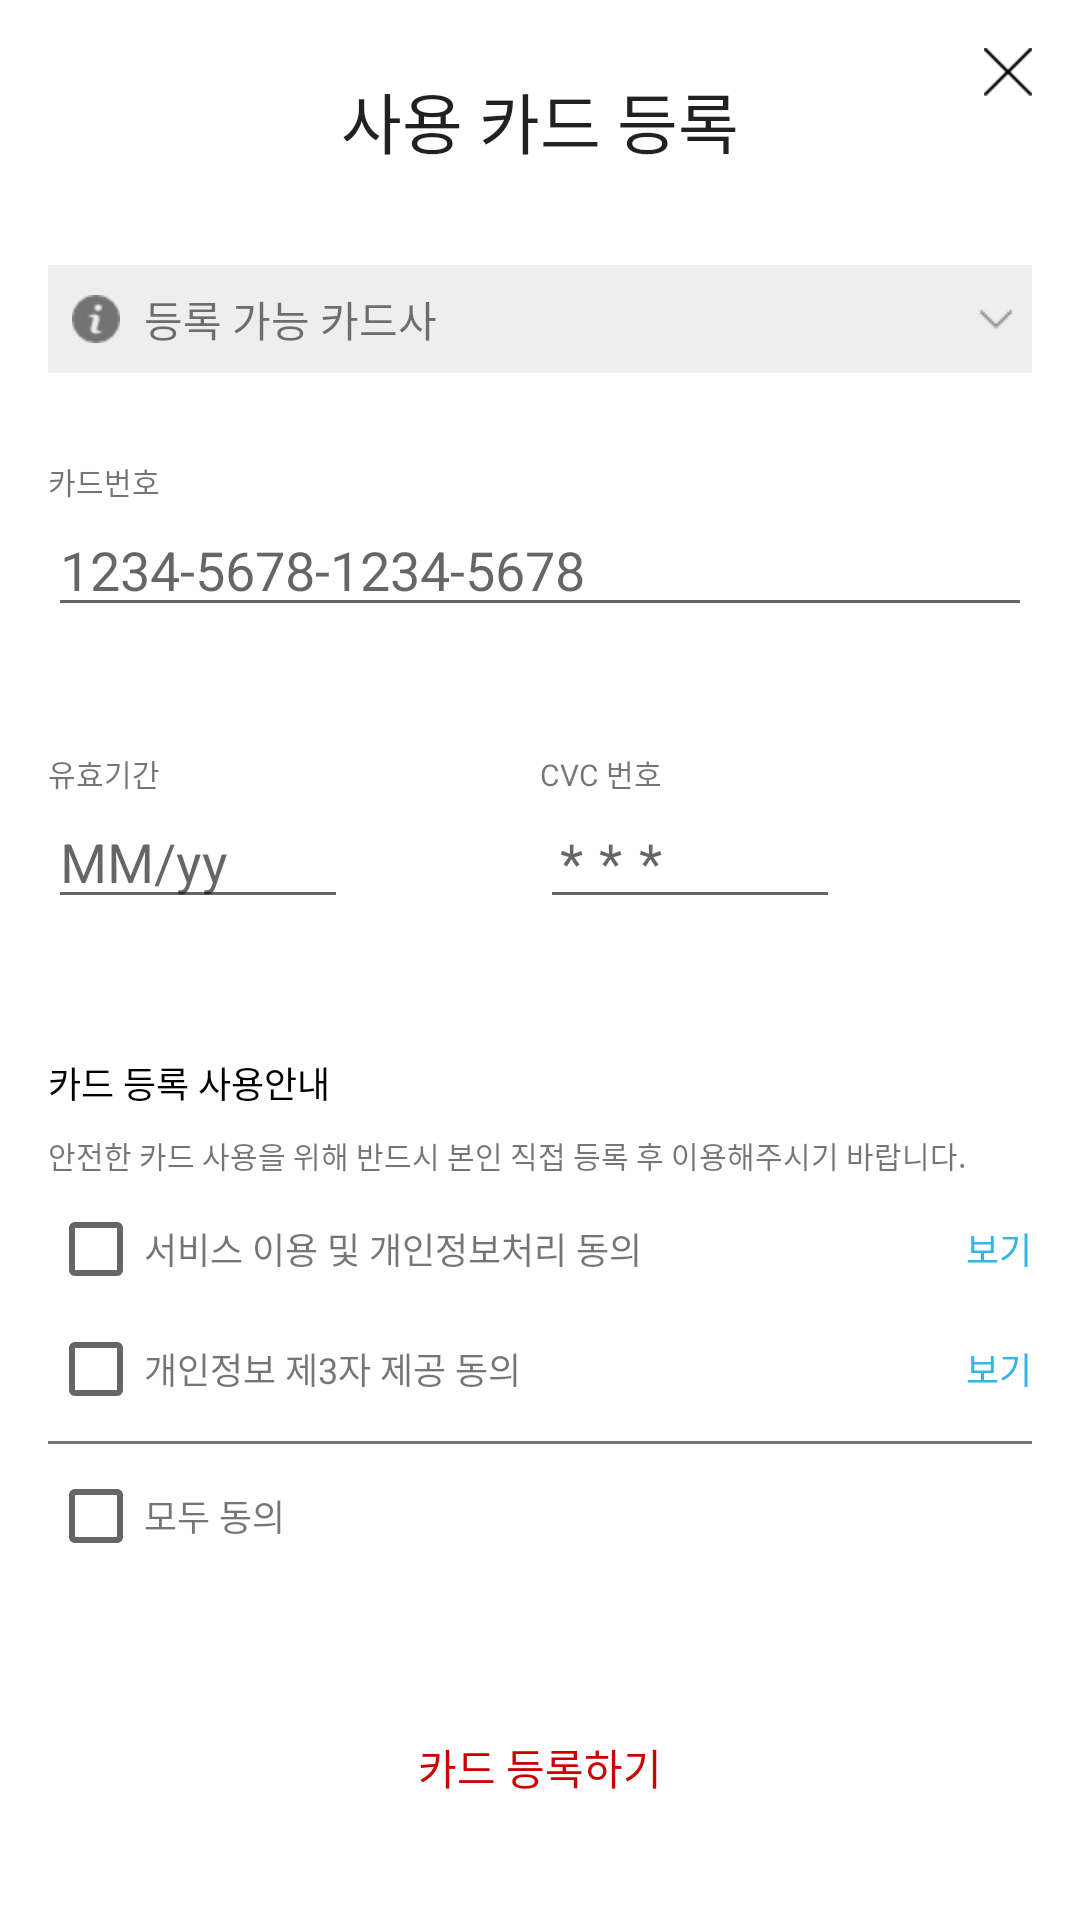

Point at icon controls on the screen. Image size 1080×1920, points as (x,y).
cancel: (1008,72)
down arrow: (996,319)
info: (96,319)
